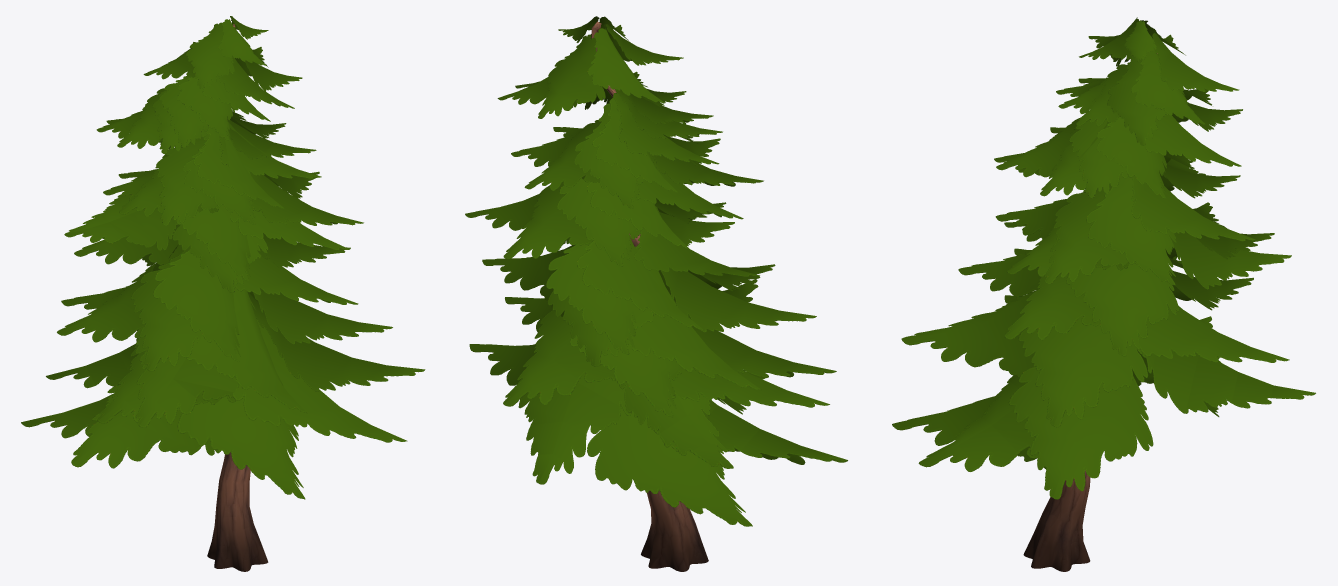
Rendered from Pine_5.gltf.
3 renders of one model, left to right at view 1: azimuth 30°, elevation 25°; view 2: azimuth 150°, elevation 25°; view 3: azimuth 270°, elevation 25°, orthographic. The views are drawn at different scales.
Visible parts, largest first — view 1: Pine_5; view 2: Pine_5; view 3: Pine_5.
Boxes of the visible parts, left/top/right/bottom form: Pine_5: left=21, top=16, right=425, bottom=571; Pine_5: left=465, top=16, right=847, bottom=571; Pine_5: left=892, top=17, right=1315, bottom=571.
Size of the model in its own units: 6.42 by 8.72 by 6.22.
2 materials, 2 textured.
